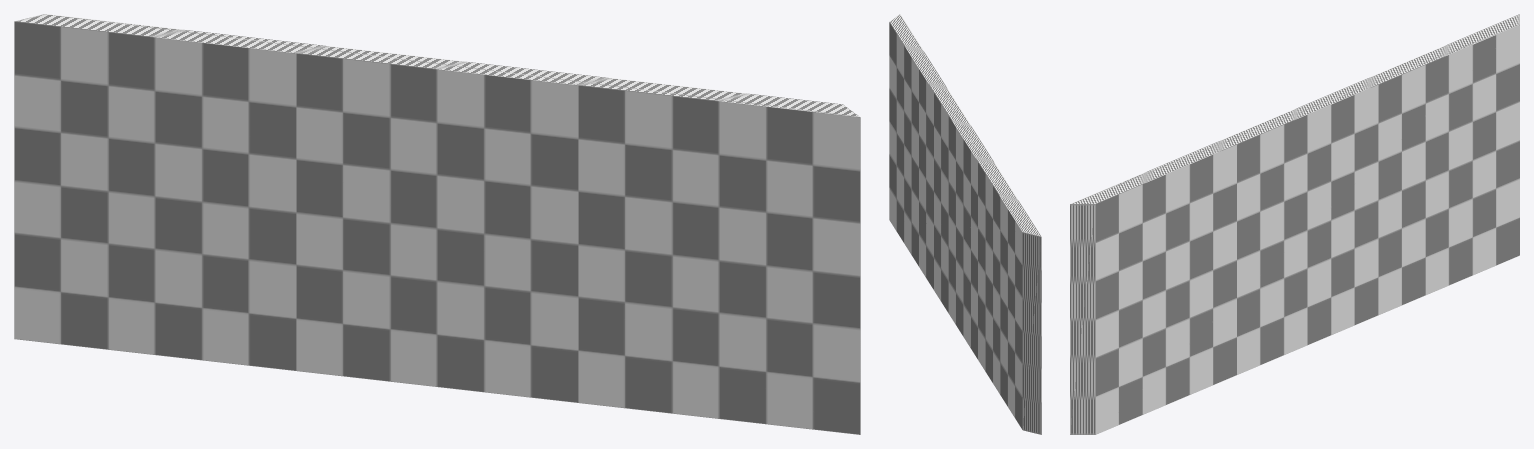
The model's file is CorridorWallIn.fbx.
The picture shows the model from 3 angles, left to right: view 1: azimuth 30°, elevation 25°; view 2: azimuth 150°, elevation 25°; view 3: azimuth 270°, elevation 25°; orthographic projection. The views are drawn at different scales.
Parts seen in each view (by area): view 1: CorridorWallIn; view 2: CorridorWallIn; view 3: CorridorWallIn.
Boxes of the visible parts, box(x1,y1,x2,y2) form: CorridorWallIn: box(14, 14, 860, 434); CorridorWallIn: box(889, 14, 1041, 434); CorridorWallIn: box(1070, 14, 1519, 434).
Bounding box in the file's own units: 209 × 209 × 118.
1 material, 1 textured.
